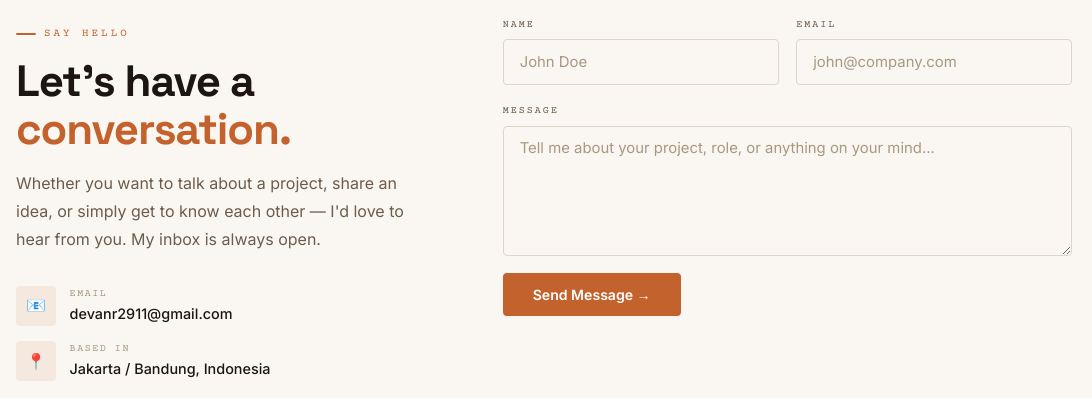
Test case: ContactSection › shows a success message and clears the form once the message is sent
In the field labelled "Name": {"x": 641, "y": 62} [503, 39, 779, 85], type "Jane Doe"
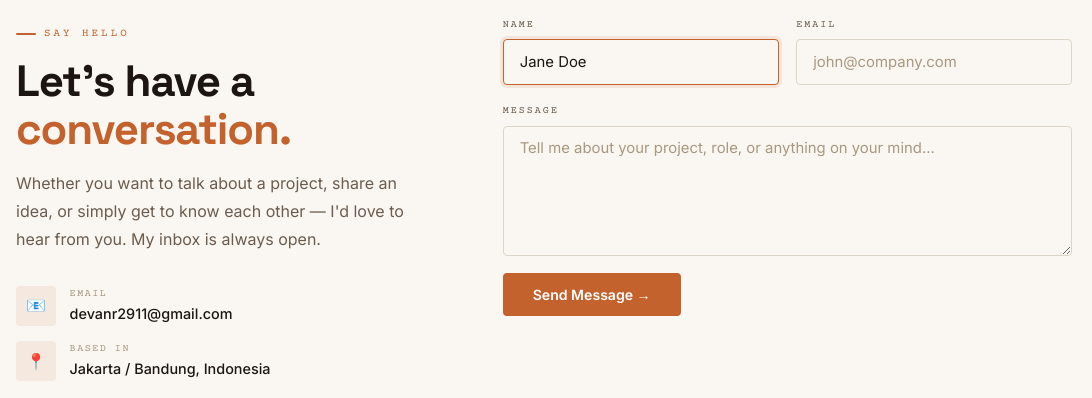
In the field labelled "Email": {"x": 934, "y": 62} [796, 39, 1072, 85], type "jane@example.com"
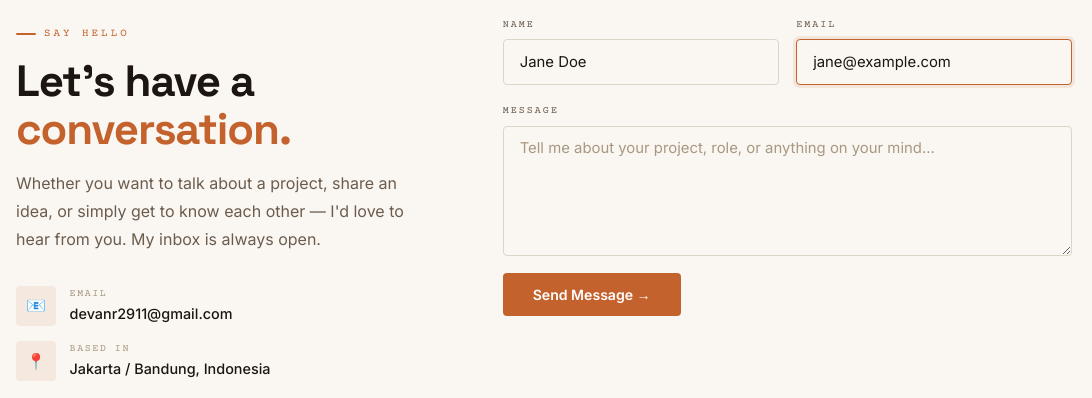
In the text box labelled "Message": {"x": 787, "y": 191} [503, 126, 1072, 256], type "Hello there"
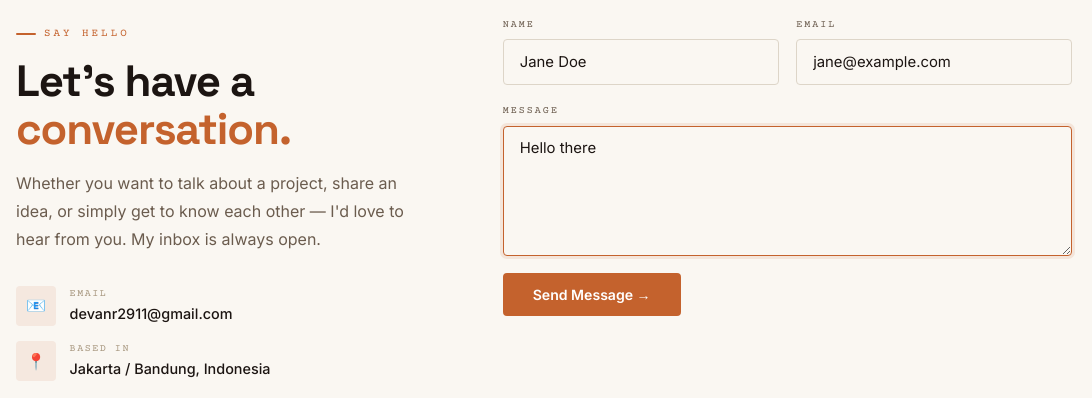
Click the button "Send Message →": {"x": 592, "y": 295} [503, 273, 681, 316]
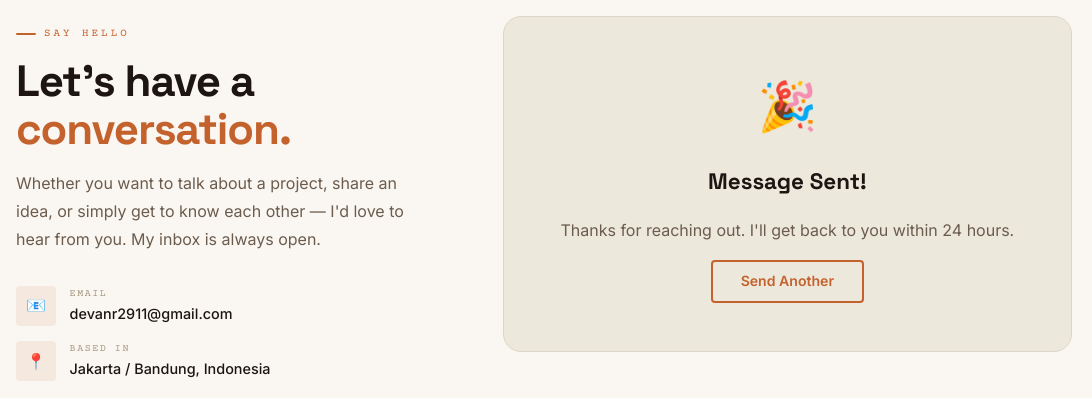
Expected: the heading "Message Sent!" is shown, [708, 163, 867, 201]
Expected: the label labelled "Name" is gone
